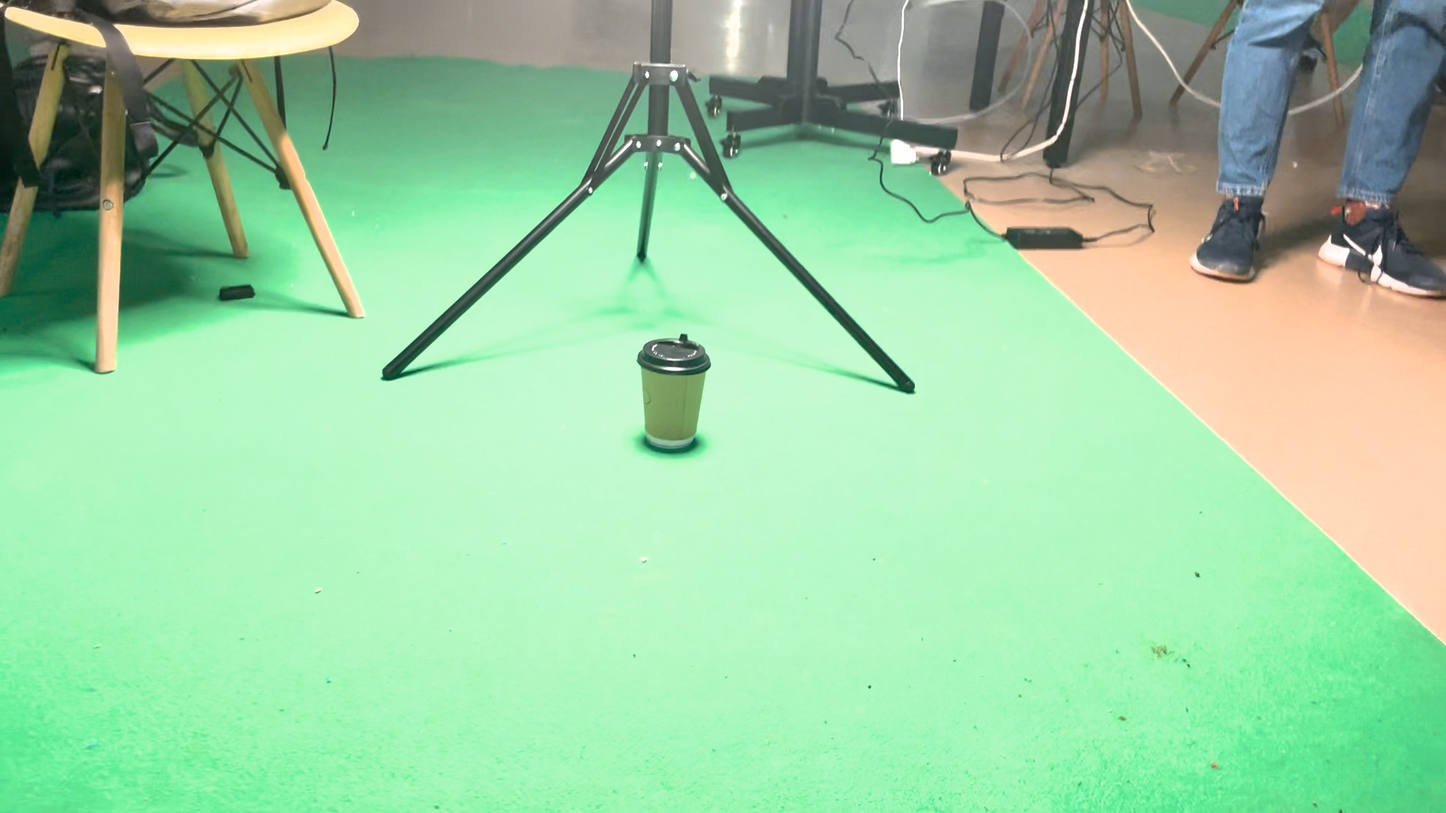cup: (689, 458, 803, 613)
